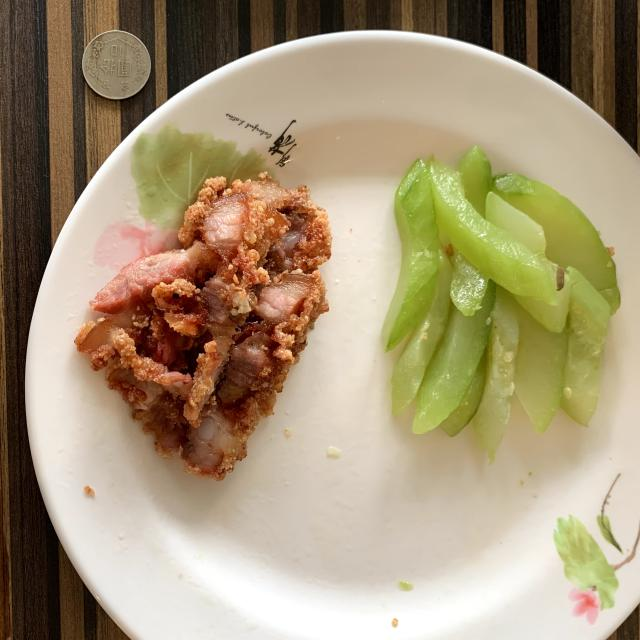coin: (82, 30, 151, 100)
red grilled pork: (75, 174, 331, 480)
